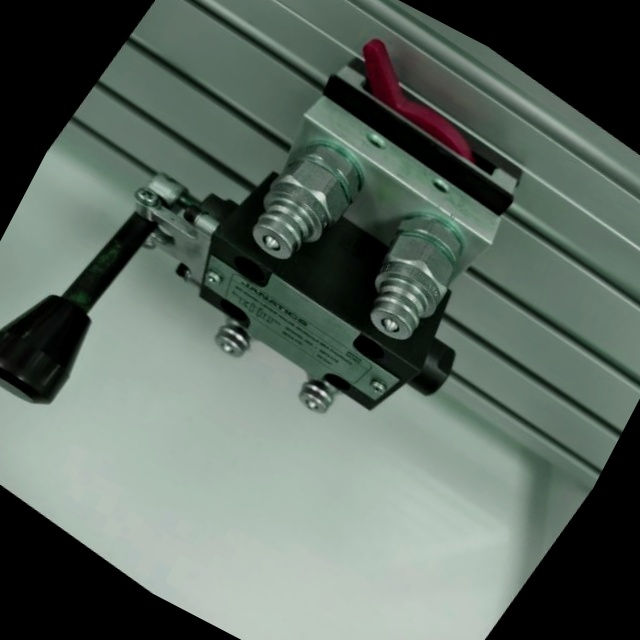4by3 hand lever valve: (0, 0, 618, 637)
